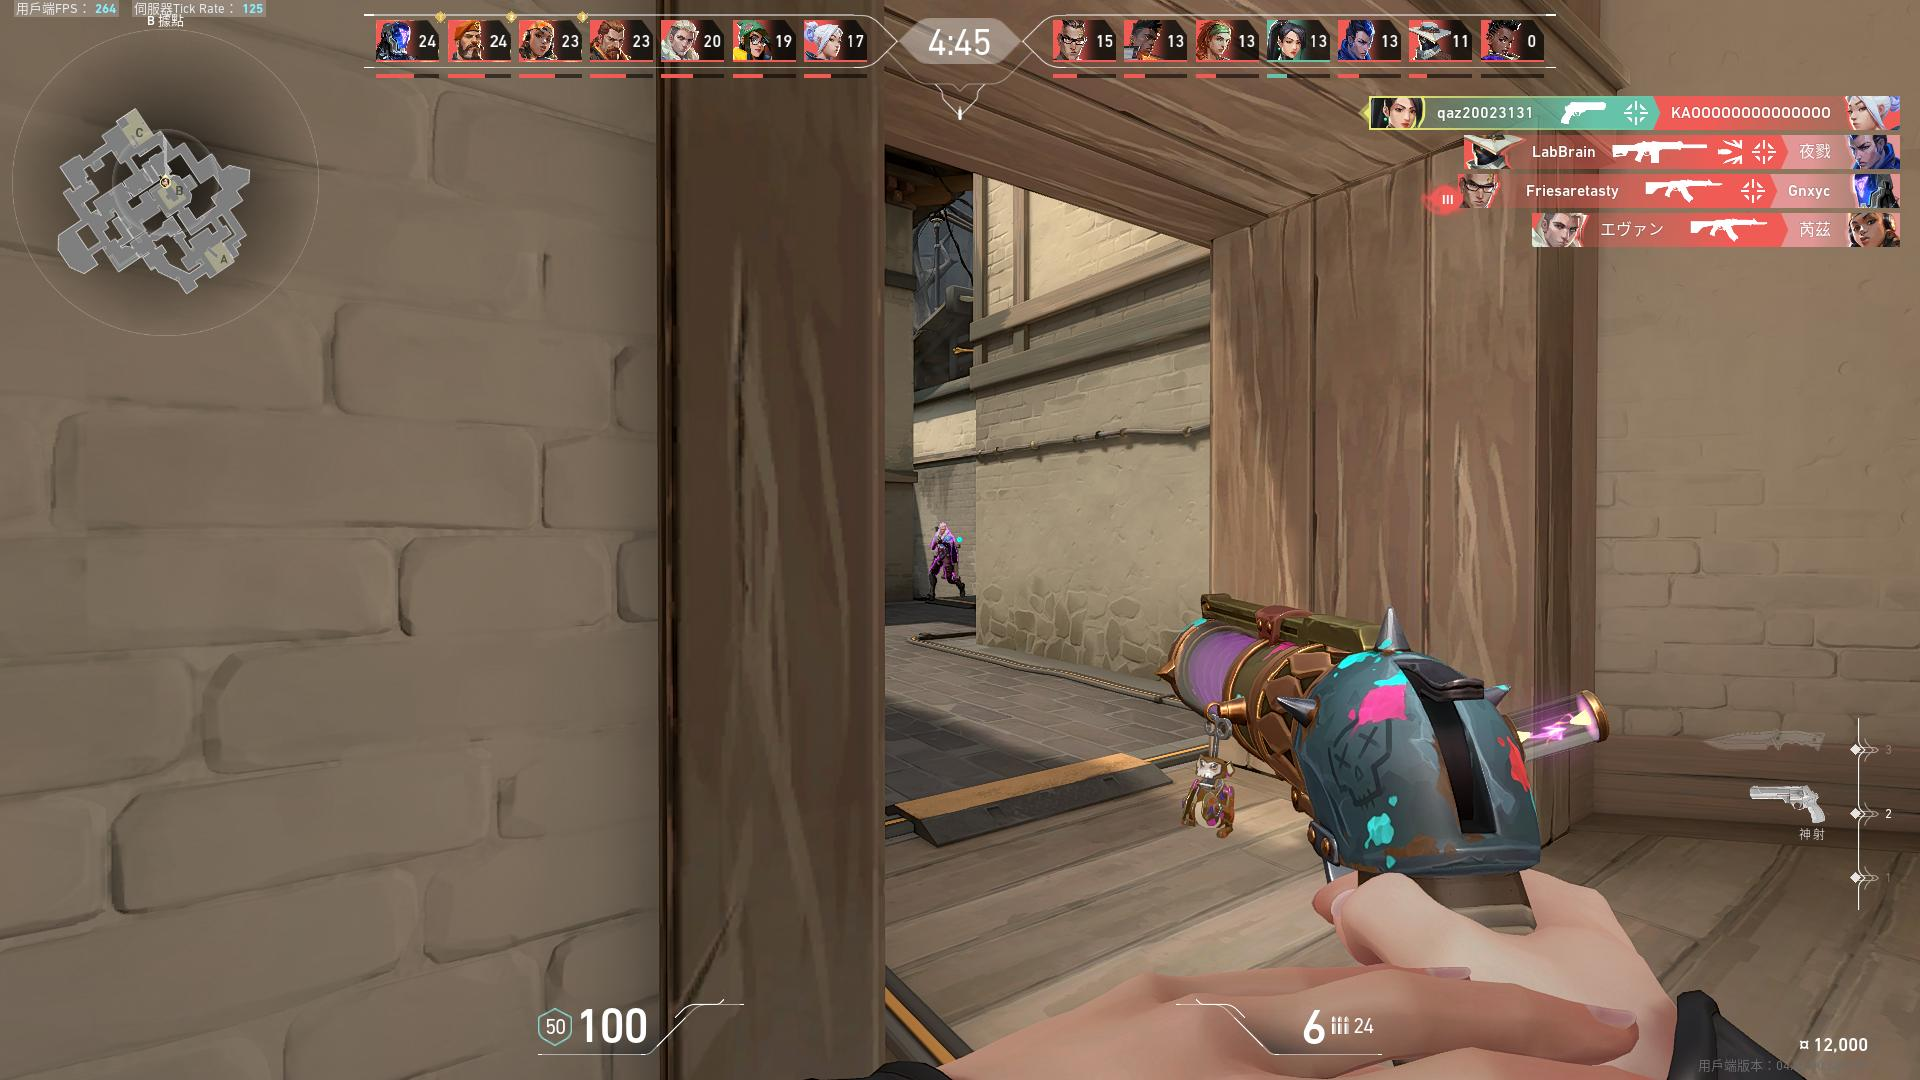enemyBody: (938, 535, 948, 559)
enemyHead: (940, 525, 945, 534)
